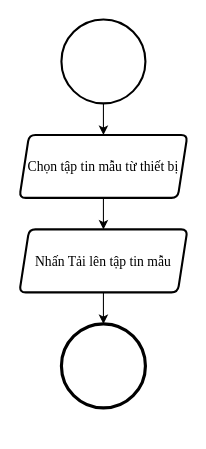
Image size: 206x449. Some labels were removed from this diagram. Each missing label, with the centre of its shape:
"Bắt đầu" goes at (x=103, y=61).
"Kết thúc" goes at (x=102, y=365).
